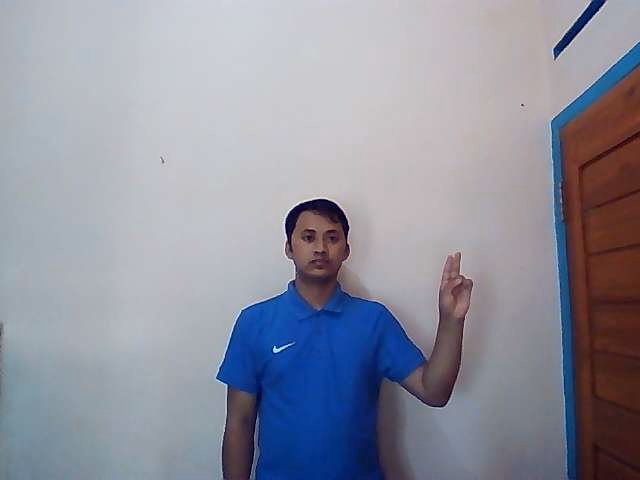U: (435, 251, 472, 318)
